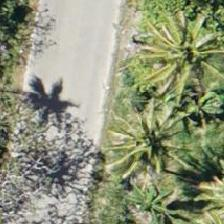coconut_tree: (105, 103, 195, 193)
